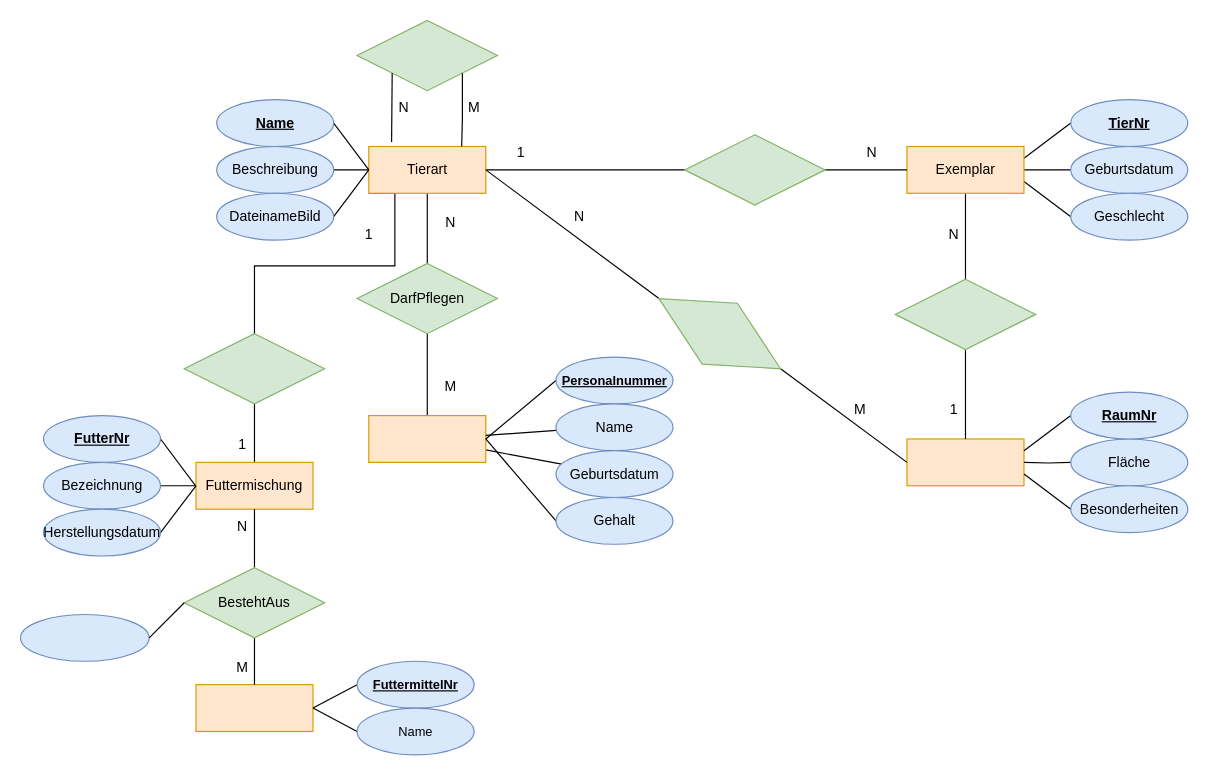
Some shapes in this 1209 by 776 pixel diagram are drawn without their labels. The box of each missing label's shape, as (x1, y1, x2, y2) in pixels:
AnteilAnMischung: (19, 613, 149, 661)
ErhältFutter: (183, 333, 325, 404)
Futtermittel: (195, 684, 313, 731)
gibt: (684, 134, 825, 205)
IstGeeignet: (640, 267, 798, 399)
LebtIn: (894, 278, 1036, 349)
PflegerIn: (368, 414, 486, 462)
Raum/Gehege: (906, 438, 1024, 486)
SelberRaumOk: (356, 19, 497, 91)
